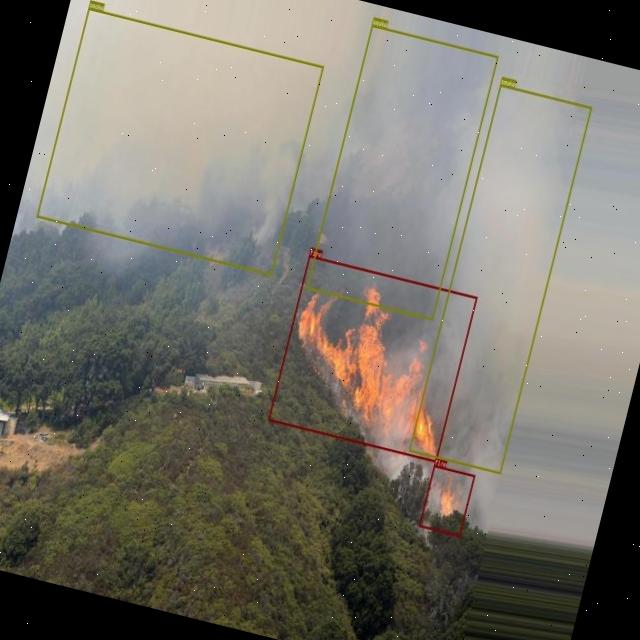fire: (268, 254, 477, 462), (418, 465, 474, 536)
smoke: (35, 8, 324, 276), (408, 84, 592, 474), (306, 23, 498, 320)
